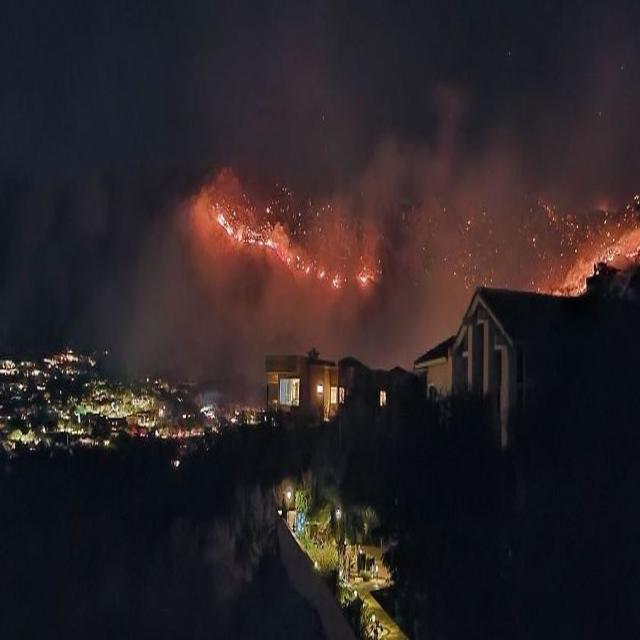Fire: (197, 170, 383, 292), (552, 214, 640, 296)
Smoke: (0, 9, 192, 398), (196, 0, 384, 159), (388, 80, 640, 194), (203, 323, 410, 443), (418, 222, 542, 369)
